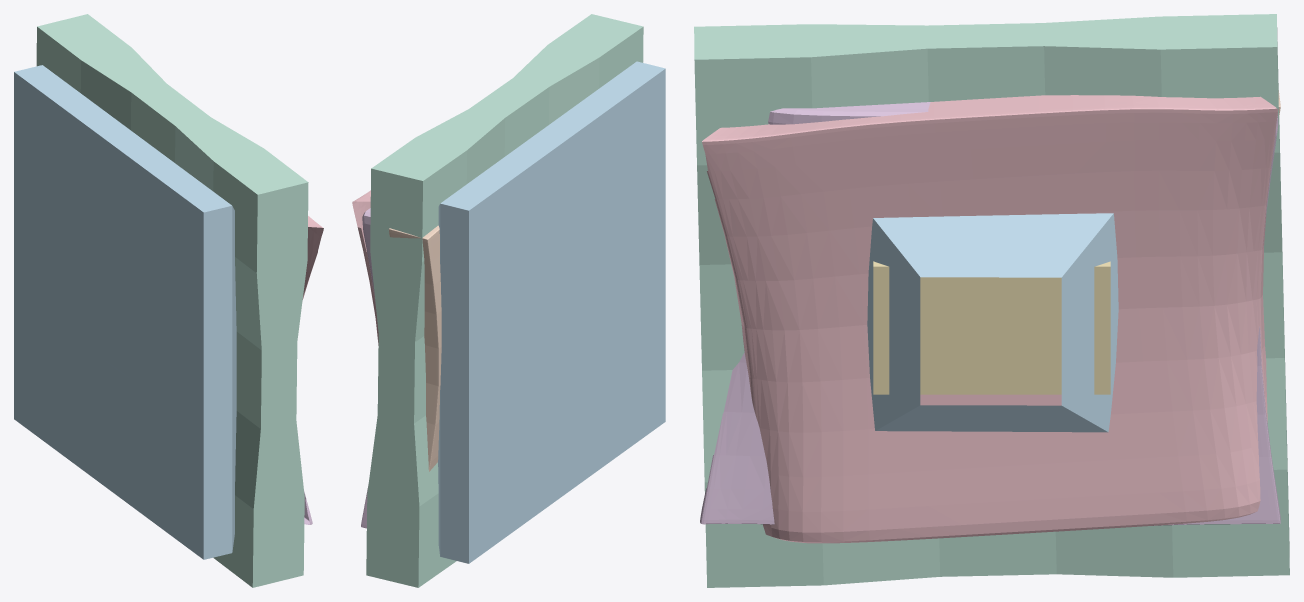
File: view_input_colored.glb
The picture shows the model from 3 angles, left to right: view 1: azimuth 30°, elevation 25°; view 2: azimuth 150°, elevation 25°; view 3: azimuth 270°, elevation 25°; orthographic projection. The views are drawn at different scales.
Parts seen in each view (by area): view 1: world; view 2: world; view 3: world.
Part boxes in pixels (box(x1,y1,x2,y2)): world: box(14, 14, 323, 587); world: box(352, 14, 665, 587); world: box(694, 14, 1289, 587).
Bounding box in the file's own units: 0.1531 × 0.4749 × 0.4752.
